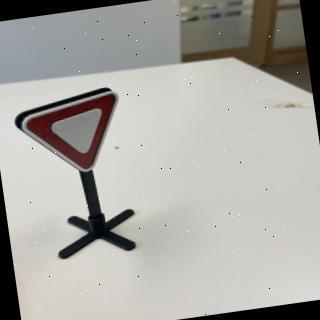duck_specialty: (11, 89, 143, 185)
